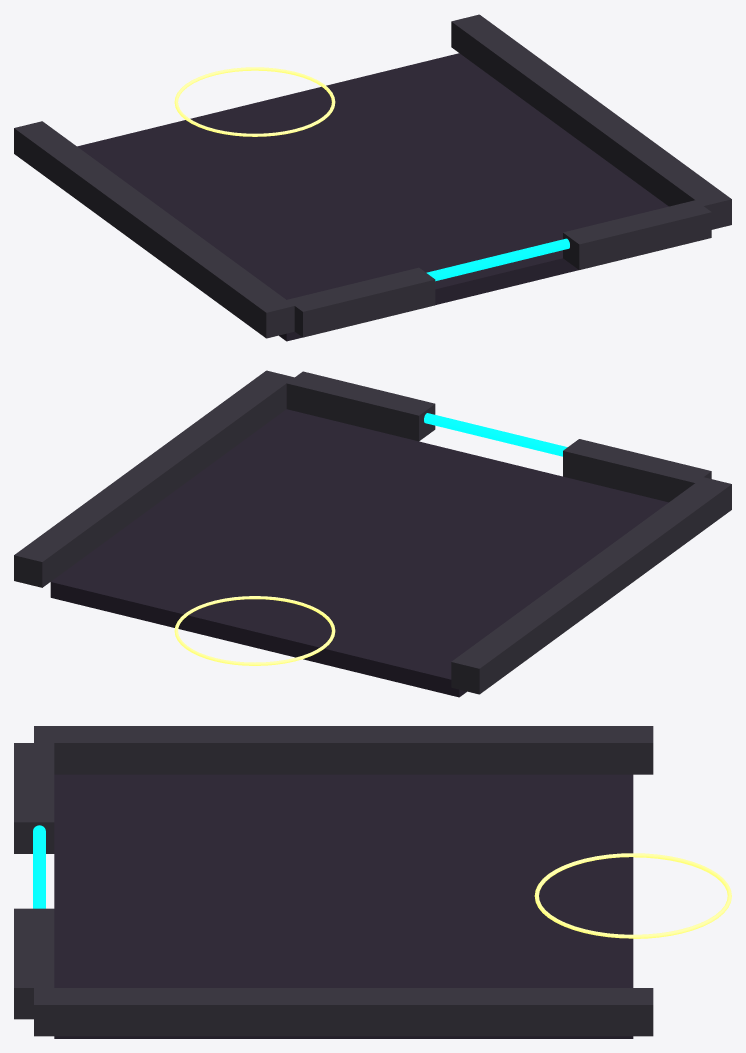
File: mesa_kiara_cat_half_p2.glb
The picture shows the model from 3 angles, top to bottom: view 1: azimuth 30°, elevation 25°; view 2: azimuth 150°, elevation 25°; view 3: azimuth 270°, elevation 25°; orthographic projection. The views are drawn at different scales.
Parts seen in each view (by area): view 1: mesa_kiara_cat_half_p2_Surface, Cube, Cube.002, Cube.005, Cube.004, Cylinder, Torus; view 2: mesa_kiara_cat_half_p2_Surface, Cube, Cube.002, Cube.005, Cube.004, Cylinder, Torus; view 3: mesa_kiara_cat_half_p2_Surface, Cube.002, Cube, Cube.004, Cube.005, Torus, Cylinder.
Boxes of the visible parts, x1,y1,x2,y2 form: mesa_kiara_cat_half_p2_Surface: [77, 53, 668, 341]; Cube: [14, 121, 294, 338]; Cube.002: [451, 14, 731, 229]; Cube.005: [563, 200, 711, 269]; Cube.004: [287, 267, 435, 337]; Cylinder: [426, 238, 569, 281]; Torus: [174, 67, 335, 136]; mesa_kiara_cat_half_p2_Surface: [50, 409, 668, 697]; Cube: [451, 477, 731, 694]; Cube.002: [14, 370, 294, 587]; Cube.005: [286, 371, 435, 441]; Cube.004: [563, 439, 711, 502]; Cylinder: [424, 413, 567, 456]; Torus: [174, 596, 335, 665]; mesa_kiara_cat_half_p2_Surface: [54, 774, 633, 1038]; Cube.002: [34, 988, 653, 1036]; Cube: [34, 726, 653, 774]; Cube.004: [14, 743, 54, 853]; Cube.005: [14, 908, 54, 1019]; Torus: [534, 853, 731, 938]; Cylinder: [33, 825, 45, 908].
Bounding box in the file's own units: 1.23 × 0.105 × 1.34.
